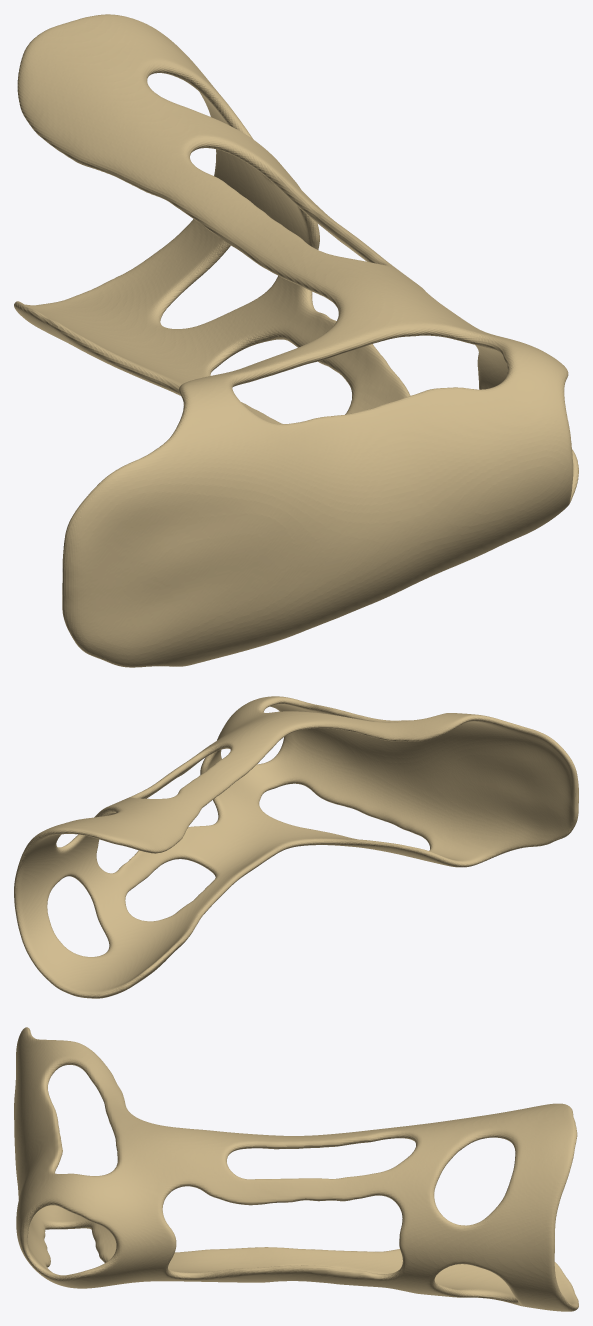
The model's file is botte.glb.
The picture shows the model from 3 angles, top to bottom: view 1: azimuth 30°, elevation 25°; view 2: azimuth 150°, elevation 25°; view 3: azimuth 270°, elevation 25°; orthographic projection. The views are drawn at different scales.
Parts seen in each view (by area): view 1: BOTTE IMPRESSION 3D PERCE; view 2: BOTTE IMPRESSION 3D PERCE; view 3: BOTTE IMPRESSION 3D PERCE.
Boxes of the visible parts, box(x1,y1,x2,y2) form: BOTTE IMPRESSION 3D PERCE: box(14, 14, 578, 667); BOTTE IMPRESSION 3D PERCE: box(14, 696, 578, 998); BOTTE IMPRESSION 3D PERCE: box(14, 1027, 578, 1311).
Size of the model in its own units: 162 by 78.48 by 215.
